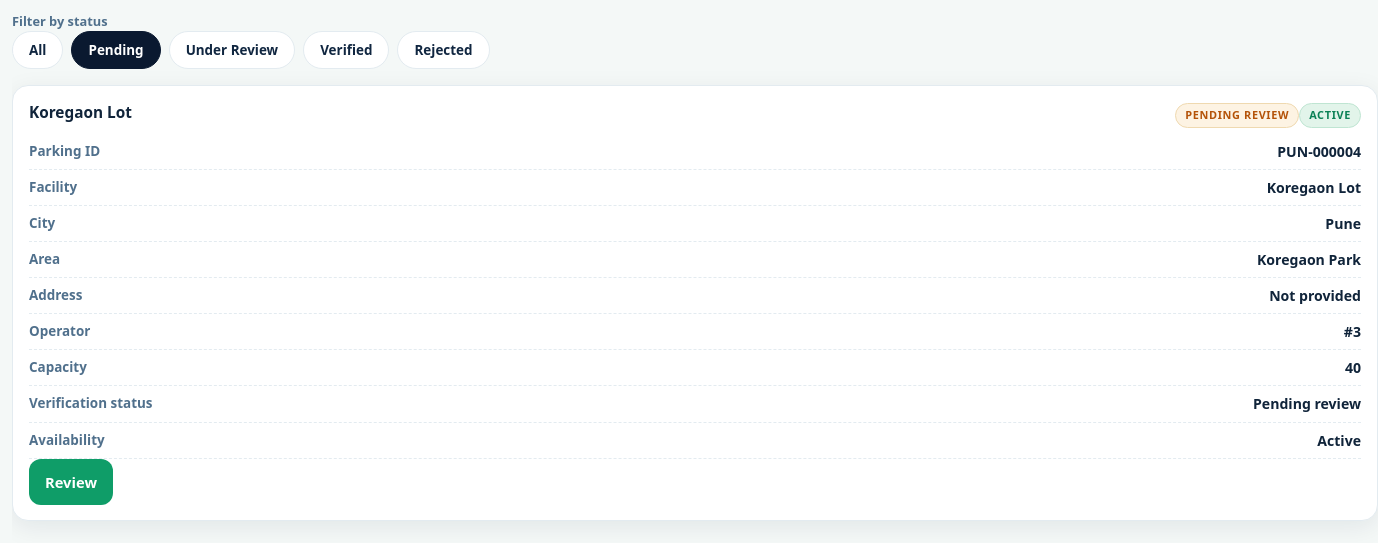
Test: AdminFacilities › refetches the list when the status filter changes
What coordinates should you click on to do the following:
click the button "Under Review"
I would click on:
 (232, 50)
Its box is [169,31,295,69].
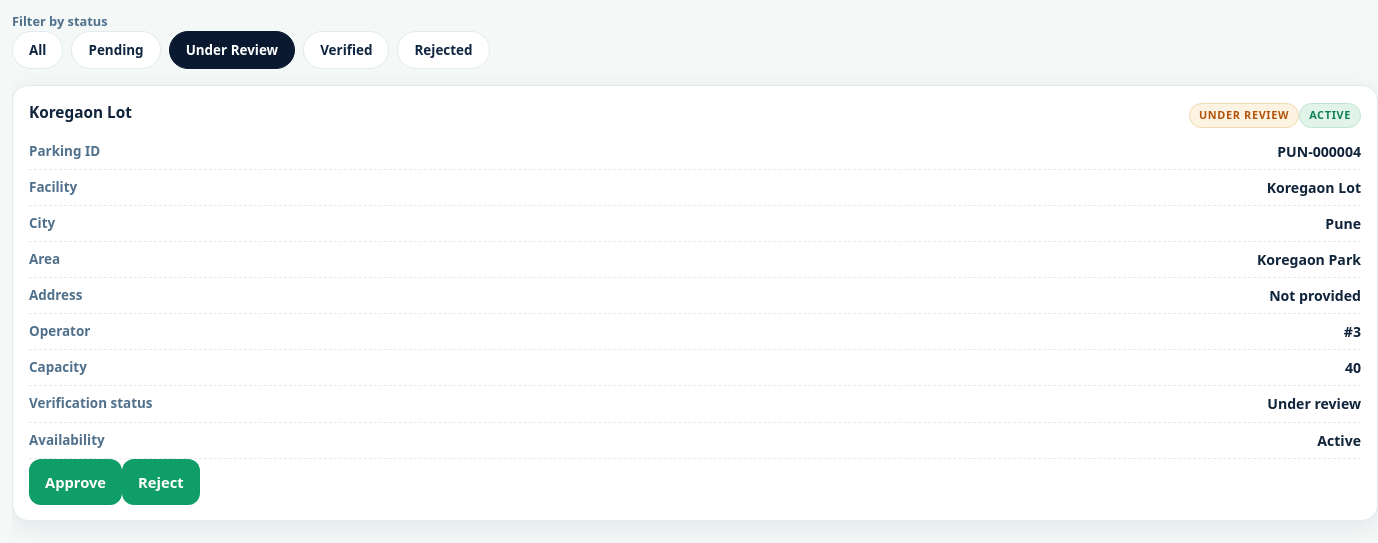
Expected: the button "Rejected" is shown, [398,31,490,69]
Result: the list item with class "admin-facility-card" shows "Under review" at [1199,107,1289,122]
Result: the button "Approve" is shown at [29,459,122,505]
